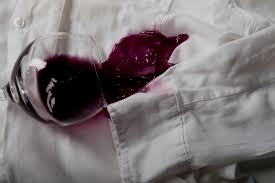wine: (57, 39, 179, 107), (111, 27, 186, 79)
